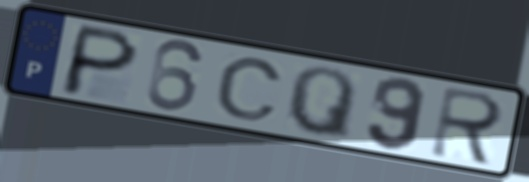6: (145, 38, 206, 115)
9: (366, 74, 429, 154)
C: (213, 55, 287, 122)
P: (55, 21, 143, 99)
Q: (283, 64, 359, 144)
R: (426, 83, 508, 169)
